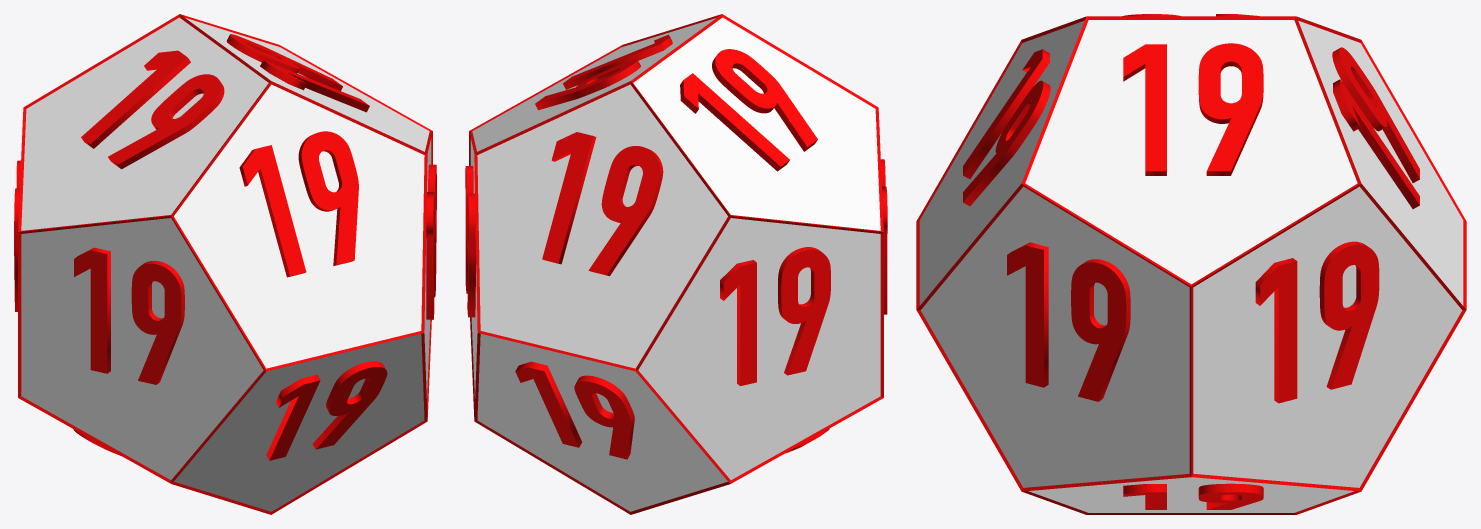
Rendered from dodecahedron_sign-19.glb.
3 views of the same model, side by side, from view 1: azimuth 30°, elevation 25°; view 2: azimuth 150°, elevation 25°; view 3: azimuth 270°, elevation 25° (orthographic). The views are drawn at different scales.
Parts seen in each view (by area): view 1: Dodecahedron_Solid, Dodecahedron_Wire, Text20_5, Text20_11, Text20_7, Text20_10, Text20_2, Text20_6, Text20_8; view 2: Dodecahedron_Solid, Dodecahedron_Wire, Text20_0, Text20_8, Text20_7, Text20_3, Text20_2, Text20_1, Text20_11; view 3: Dodecahedron_Solid, Dodecahedron_Wire, Text20_1, Text20_6, Text20_2, Text20_0, Text20_5, Text20_4.
Part boxes in pixels (x1,y1,x2,y2): Dodecahedron_Solid: (21, 17, 431, 511); Dodecahedron_Wire: (18, 14, 432, 514); Text20_5: (239, 131, 358, 277); Text20_11: (74, 247, 184, 384); Text20_7: (81, 50, 224, 169); Text20_10: (266, 361, 387, 460); Text20_2: (226, 34, 369, 112); Text20_6: (426, 164, 436, 319); Text20_8: (14, 160, 20, 311); Dodecahedron_Solid: (470, 17, 880, 511); Dodecahedron_Wire: (469, 14, 883, 514); Text20_0: (542, 132, 663, 276); Text20_8: (720, 247, 830, 385); Text20_7: (680, 49, 817, 171); Text20_3: (515, 361, 634, 459); Text20_2: (535, 34, 672, 110); Text20_1: (465, 166, 476, 317); Text20_11: (881, 159, 887, 314); Dodecahedron_Solid: (919, 20, 1463, 512); Dodecahedron_Wire: (916, 16, 1466, 514); Text20_1: (1255, 241, 1379, 403); Text20_6: (1007, 242, 1130, 401); Text20_2: (1123, 43, 1263, 175); Text20_0: (1332, 47, 1419, 208); Text20_5: (963, 49, 1050, 206); Text20_4: (1123, 483, 1263, 509).
Size of the model in its own units: 3.26 by 3.26 by 3.26.
